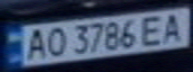3: (69, 21, 90, 55)
6: (118, 17, 142, 50)
7: (87, 20, 106, 53)
8: (103, 18, 124, 52)
A: (18, 26, 51, 61), (157, 10, 190, 43)
E: (136, 12, 169, 47)
O: (39, 25, 69, 57)
